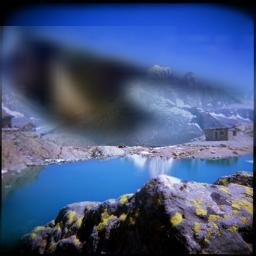Swallow: (0, 26, 256, 146)
